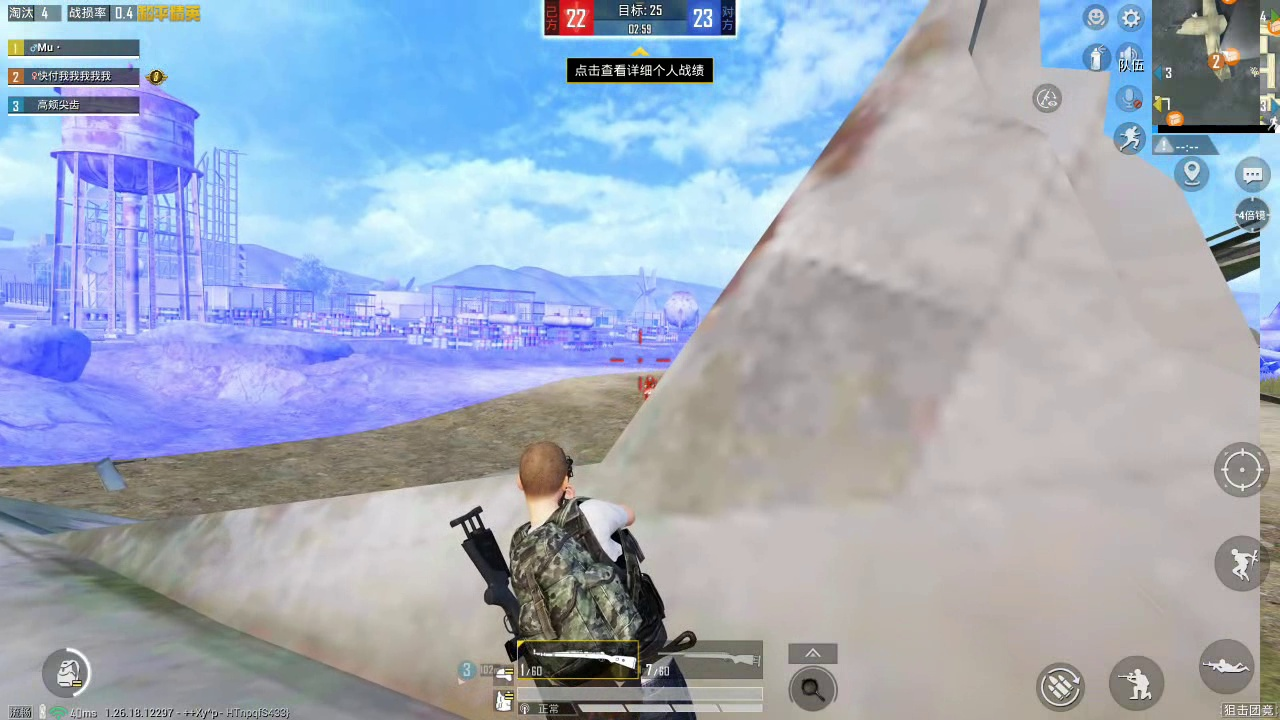enemy: (640, 372, 656, 397)
